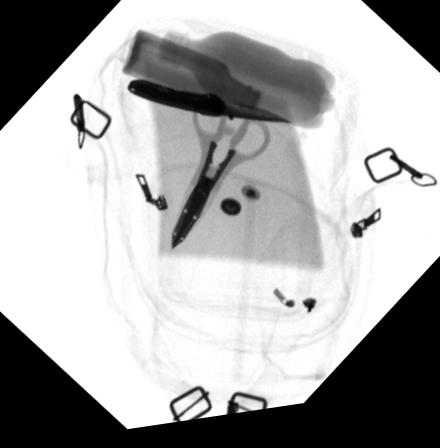Knife: (127, 82, 290, 131)
Scissors: (168, 95, 271, 254)
